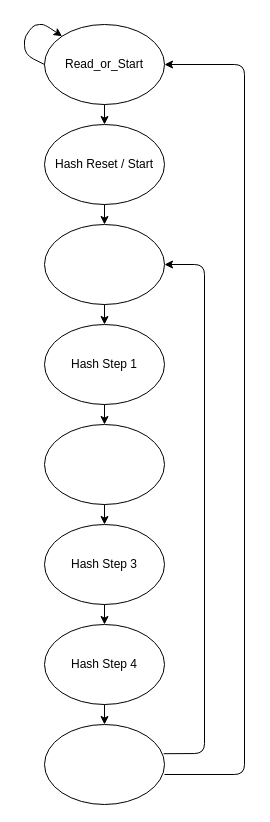
Some shapes in this 270 by 822 pixel diagram are drawn without their labels. The shapes that lost their labels are listed below. From the top down, each one's centre as x and y in pixels, then its label:
the point at 104,264: Hash Step 0
the point at 104,464: Hash Step 2
the point at 104,764: Hash Step 5 Check if algo should continue
